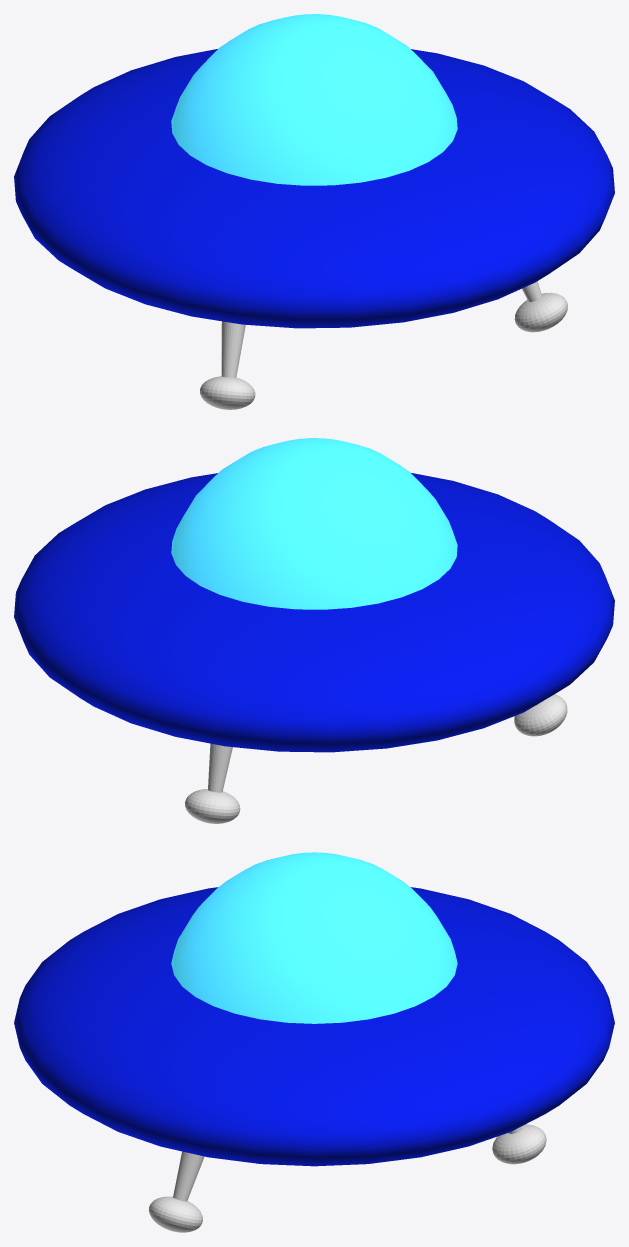
File: UFO.gltf
The picture shows the model from 3 angles, top to bottom: view 1: azimuth 30°, elevation 25°; view 2: azimuth 150°, elevation 25°; view 3: azimuth 270°, elevation 25°; orthographic projection.
Parts seen in each view (by area): view 1: Sphere.001, Sphere, Cylinder, Cylinder.002; view 2: Sphere.001, Sphere, Cylinder.001, Cylinder; view 3: Sphere.001, Sphere, Cylinder.002, Cylinder.001.
Boxes of the visible parts, x1,y1,x2,y2 form: Sphere.001: (14, 49, 614, 328); Sphere: (171, 14, 457, 185); Cylinder: (200, 321, 255, 409); Cylinder.002: (514, 281, 567, 332); Sphere.001: (14, 473, 614, 752); Sphere: (171, 438, 457, 609); Cylinder.001: (185, 743, 240, 823); Cylinder: (514, 694, 567, 736); Sphere.001: (14, 887, 614, 1166); Sphere: (171, 852, 457, 1023); Cylinder.002: (149, 1151, 204, 1232); Cylinder.001: (492, 1124, 546, 1164).
Size of the model in its own units: 4 by 2.16 by 4.
